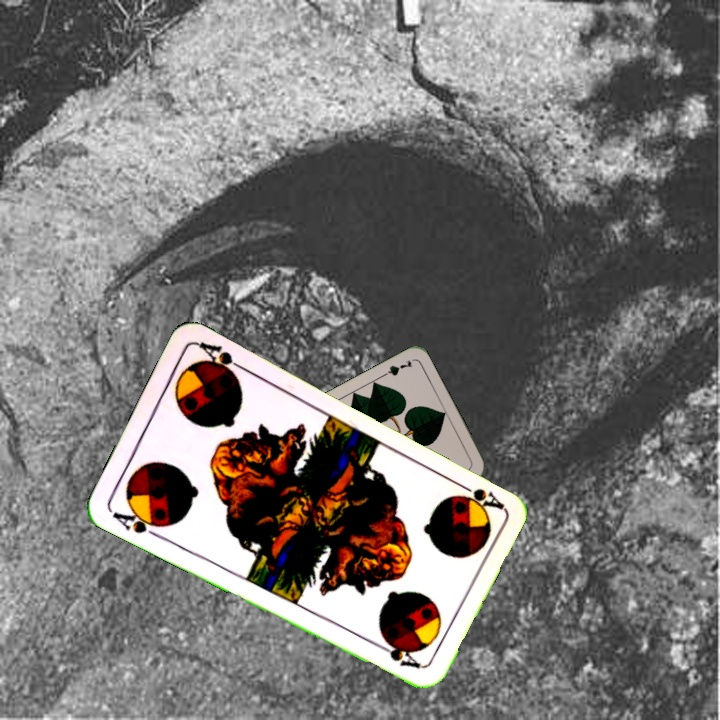G7: (376, 356, 415, 381)
SA: (108, 503, 168, 541), (449, 476, 505, 512)
